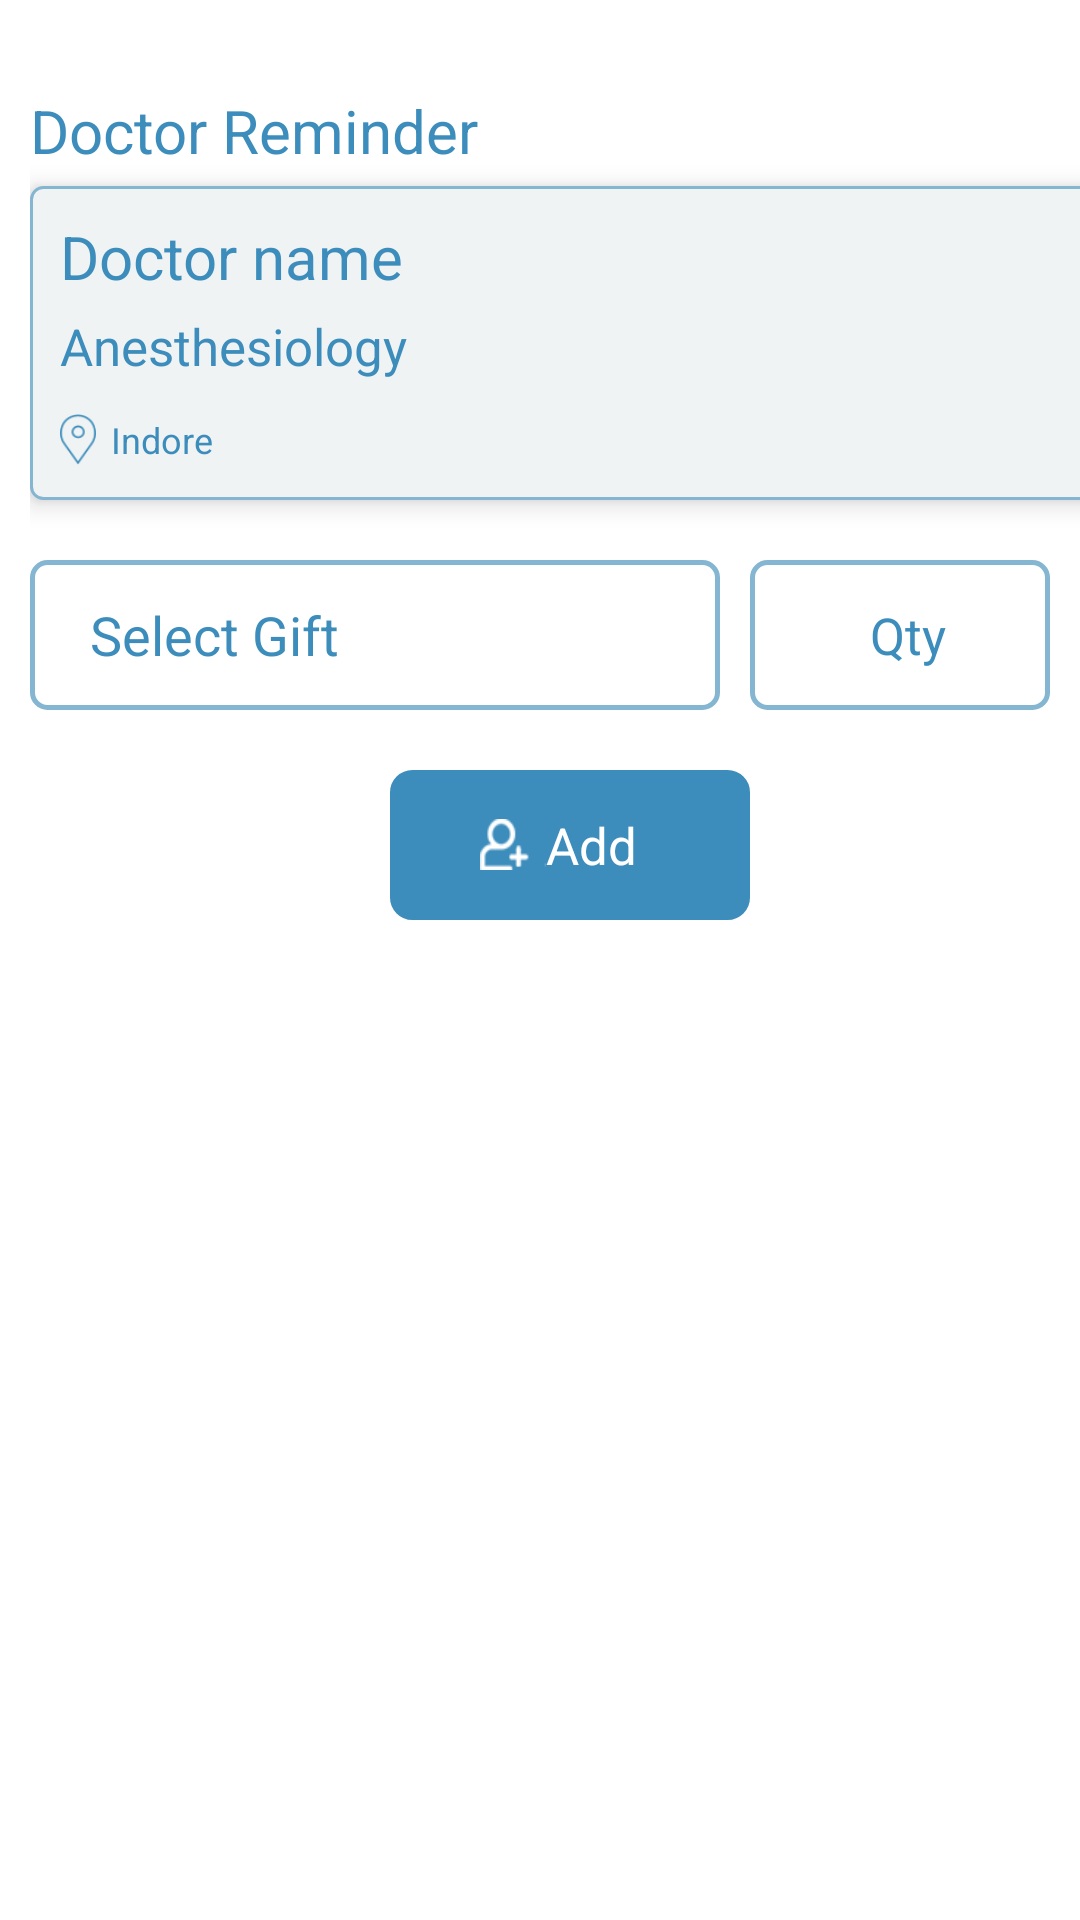

Icons on this 1080px x 1920px Android screen, each with its box as box=[x1, y1, x2, y2]:
add chemist: box=[480, 819, 529, 870]
location: box=[60, 414, 96, 464]
